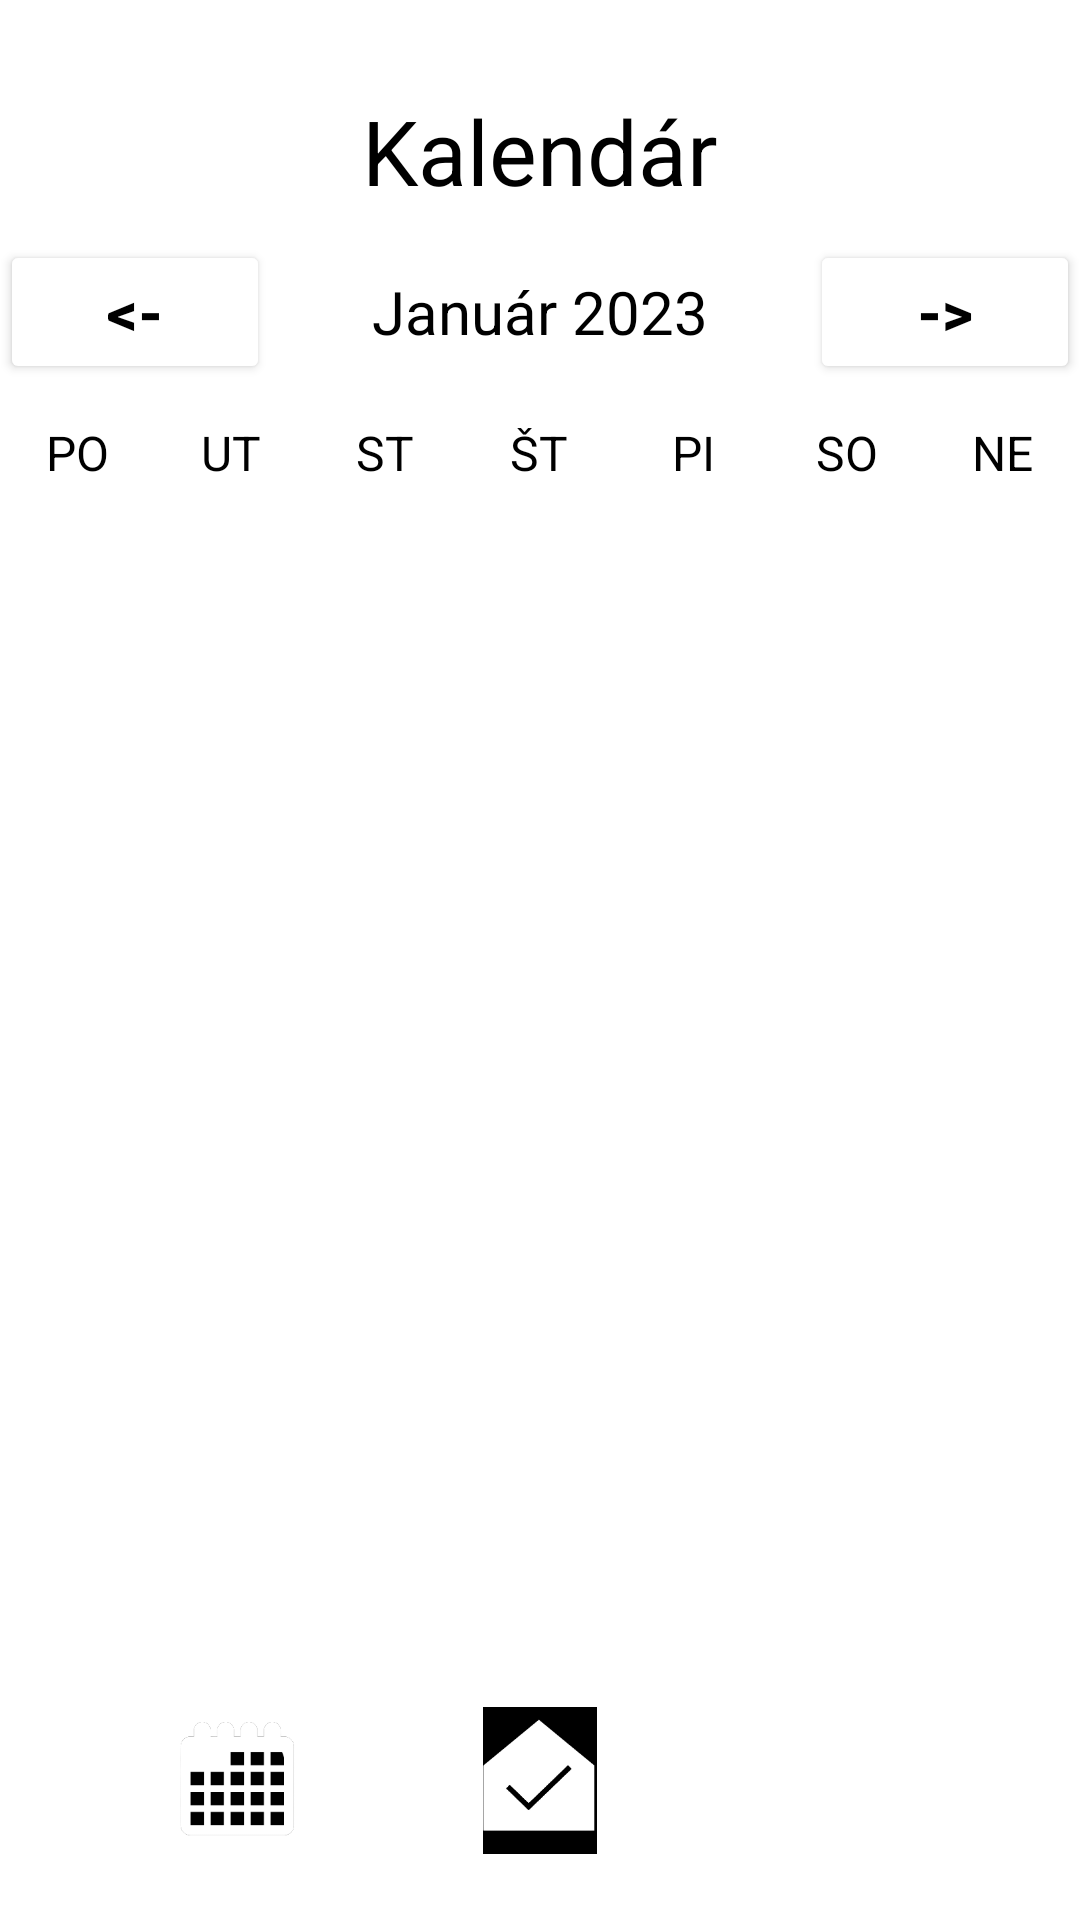

Where icons sit on this 1080×1920 app screen, as bbox=(x1, y1, x2, y2):
home: bbox=(483, 1707, 597, 1854)
kalendar: bbox=(181, 1722, 294, 1835)
